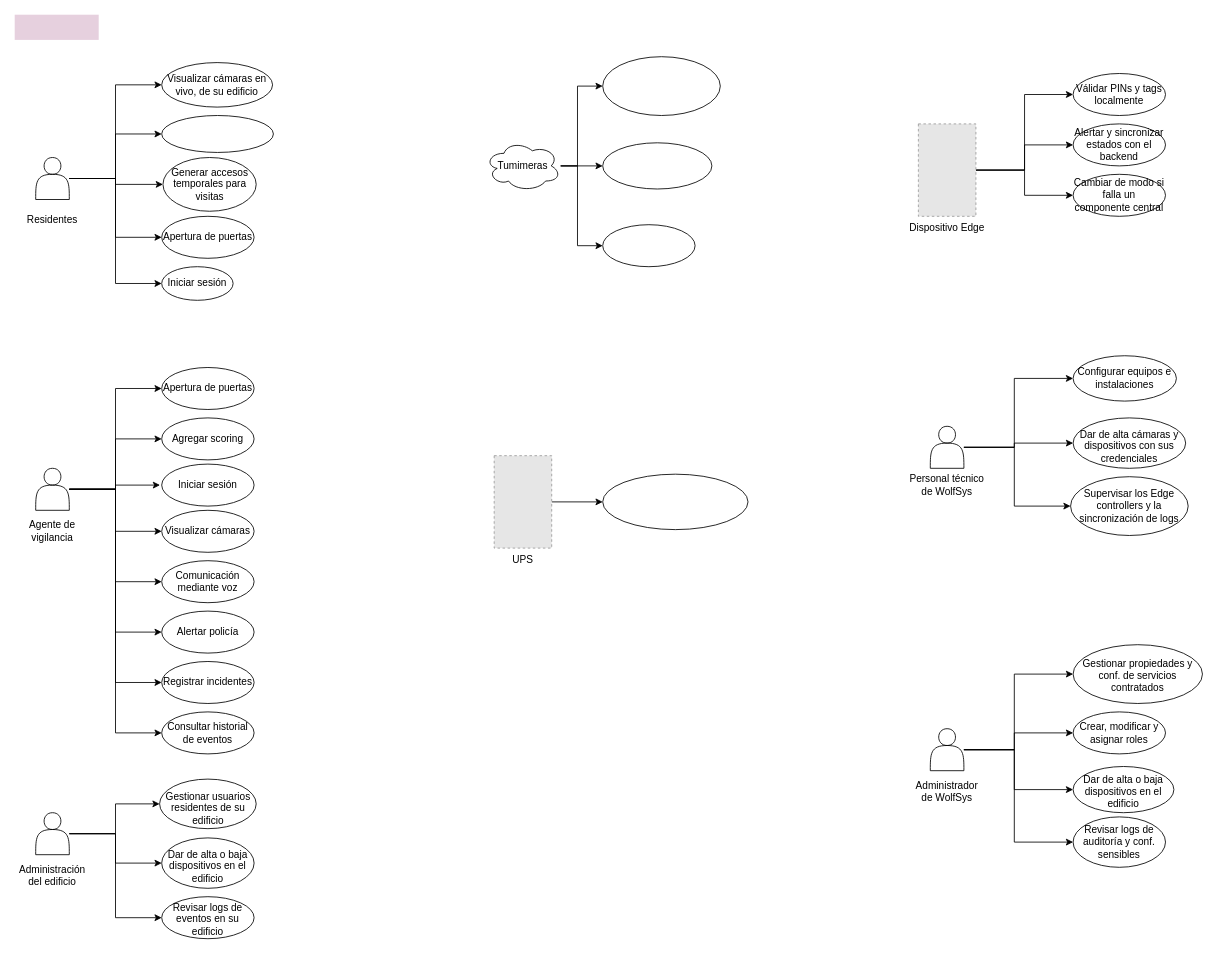
Some shapes in this 1217 by 953 pixel diagram are drawn without their labels. Grey dashed boxes stand in for pictures. The box of each missing label's shape, as (x1, y1, x2, y2) in pixels:
Almacenamiento en caliente de video: (602, 142, 712, 189)
Autenticar cámaras y entregar streams de video: (602, 56, 720, 116)
Diagrama de casos de uso: (14, 14, 98, 39)
Expone los endpoints HTTP de las feeds: (602, 224, 695, 267)
Mantiene en funcionamiento componentes ante cortes de energía: (602, 473, 748, 530)
Recibir notificaciones push: (161, 115, 273, 152)
